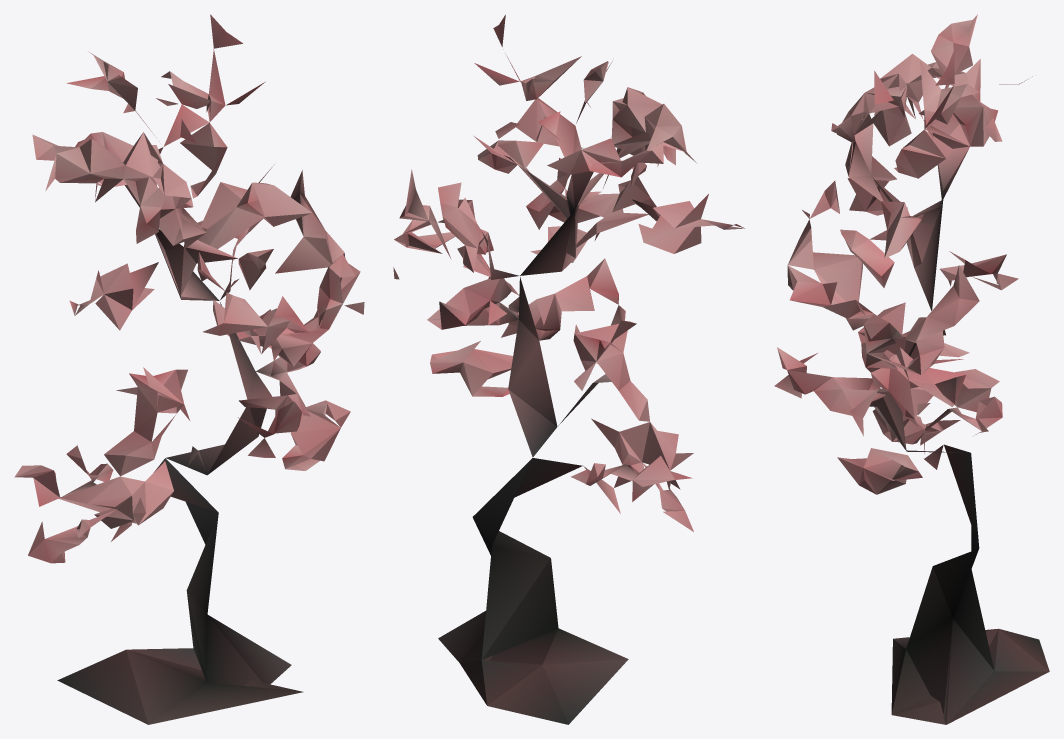
File: tree_peach.vc2.glb
3 renders of one model, left to right at view 1: azimuth 30°, elevation 25°; view 2: azimuth 150°, elevation 25°; view 3: azimuth 270°, elevation 25°, orthographic. The views are drawn at different scales.
Visible parts, largest first — view 1: tree_peach; view 2: tree_peach; view 3: tree_peach.
Boxes of the visible parts, x1,y1,x2,y2 form: tree_peach: [14, 14, 364, 724]; tree_peach: [393, 14, 744, 724]; tree_peach: [774, 14, 1049, 724].
Bounding box in the file's own units: 0.928 × 1.86 × 0.712.
